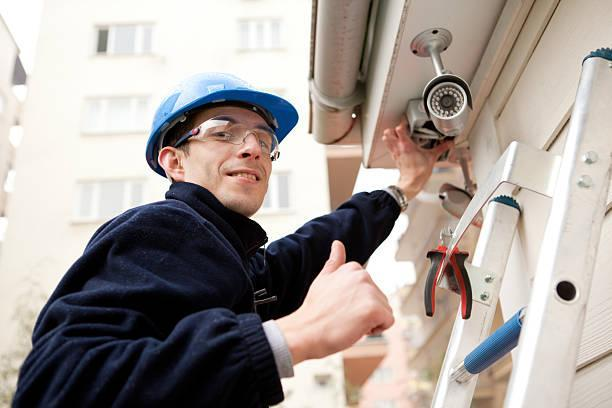camera: (402, 67, 496, 141)
